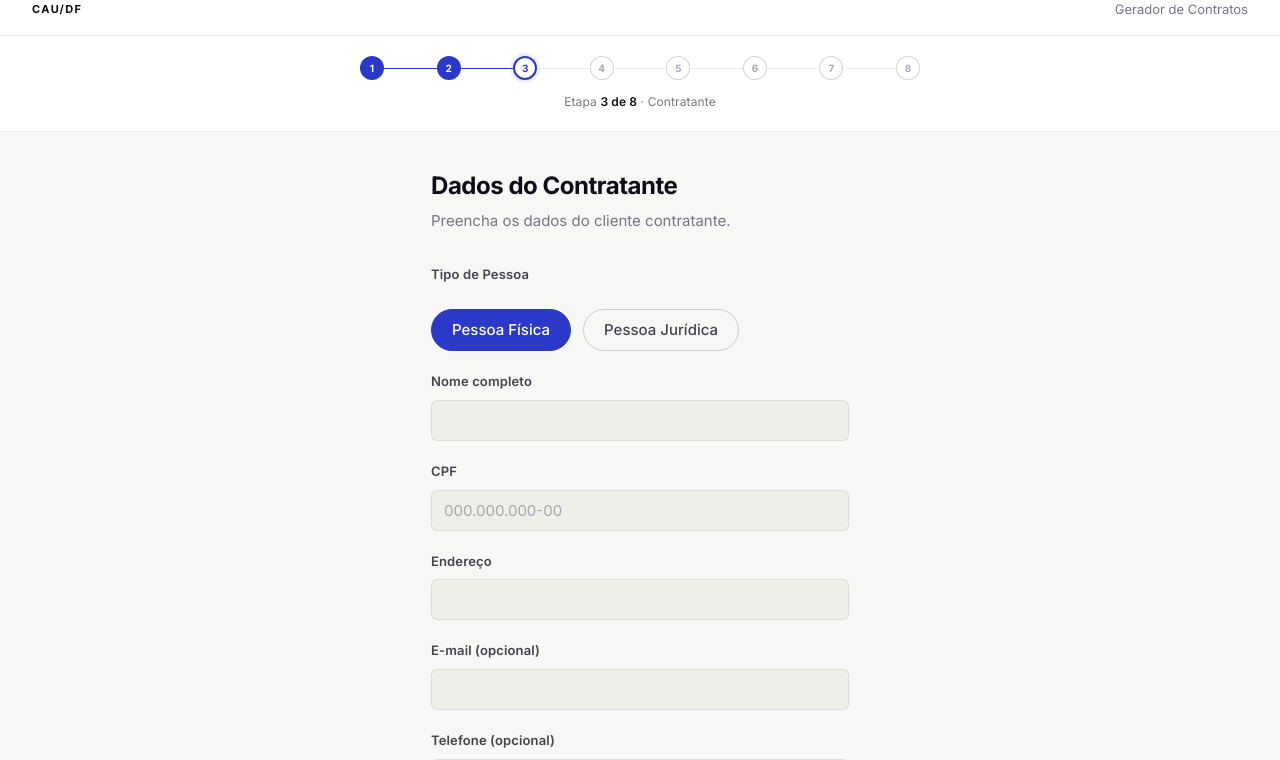
it: ClientFormPage › all valid PJ fields (including conditionals) enables continue button
Click the radio button labelled "Pessoa Jurídica". click: [661, 330]
box: [583,309,739,351]
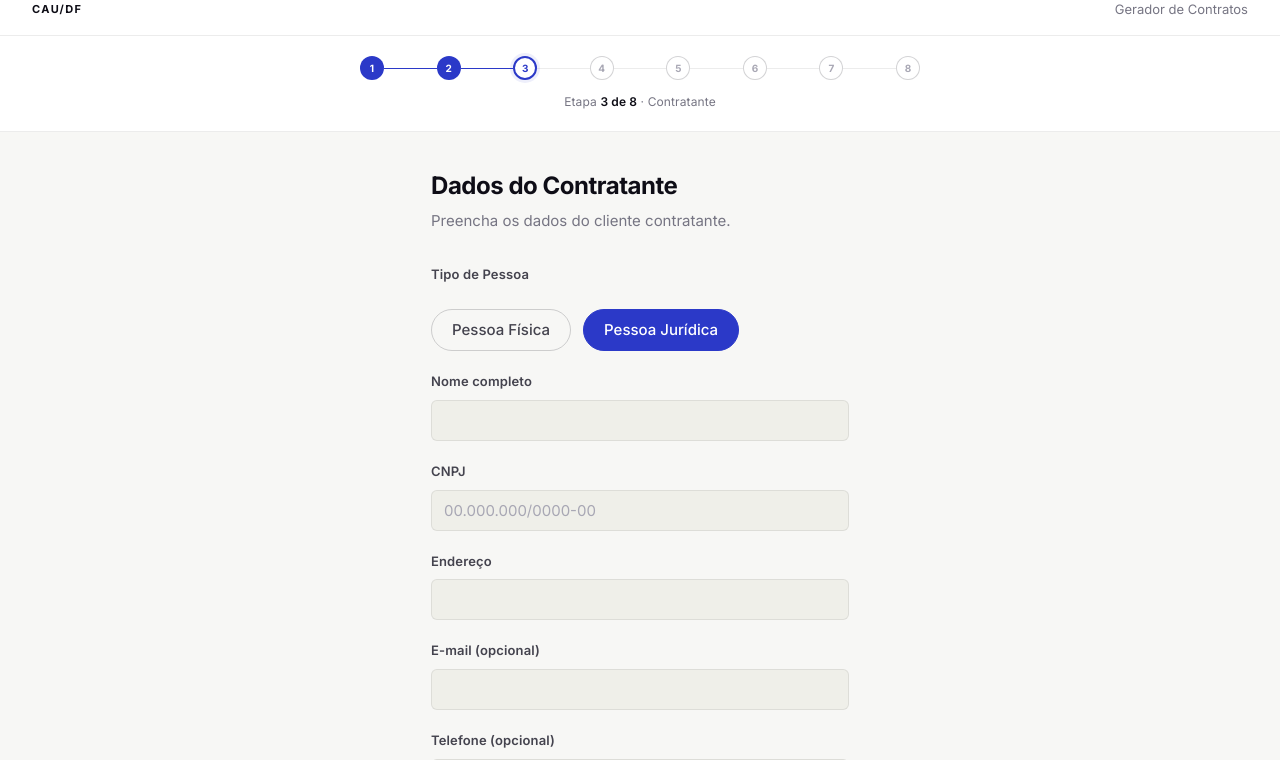
Type "Empresa XYZ" into the field labelled "Nome completo". click: [640, 420]
box: [431,400,849,441]
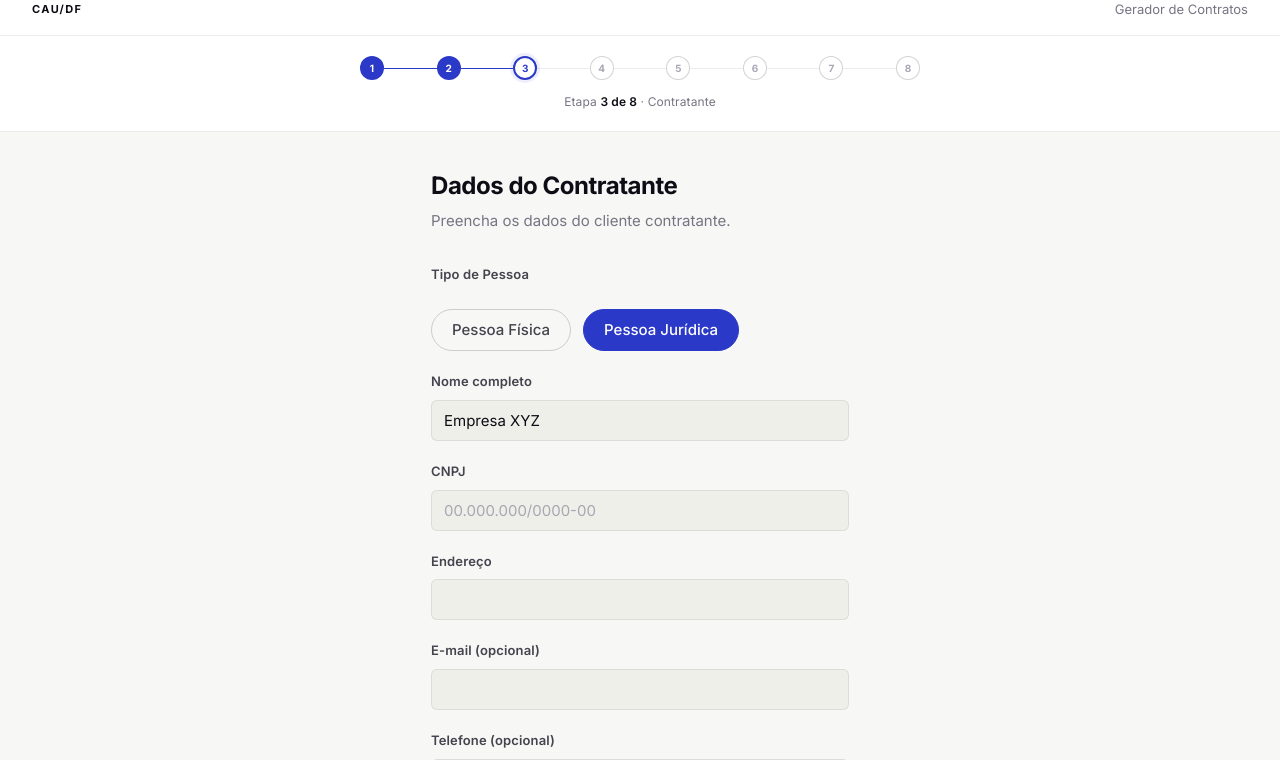
Type "11.222.333/0001-81" into the field labelled "CNPJ". click: [640, 510]
box: [431,490,849,531]
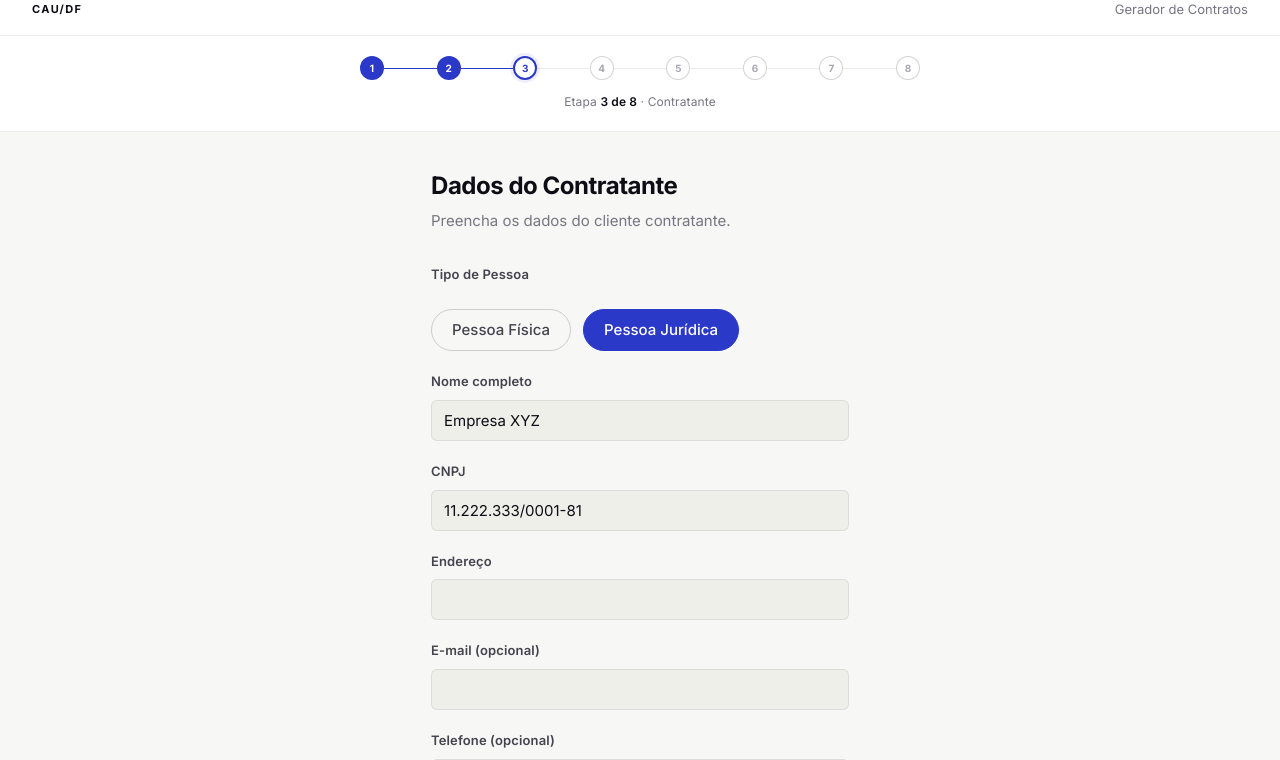
Type "Rua B, 2" into the field labelled "Endereço". click: [640, 600]
box: [431,579,849,620]
(page scrolled)
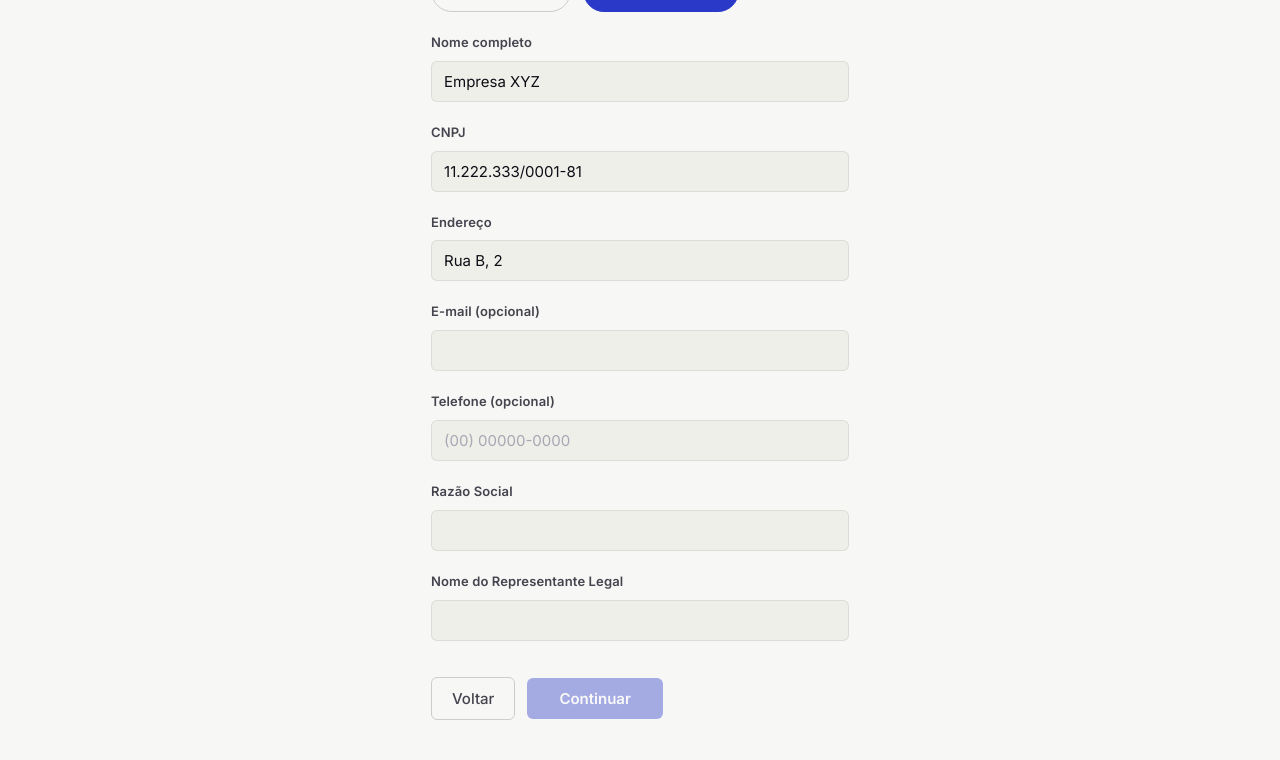
Type "Empresa XYZ Ltda" into the field labelled "Razão Social". click: [640, 530]
box: [431,510,849,551]
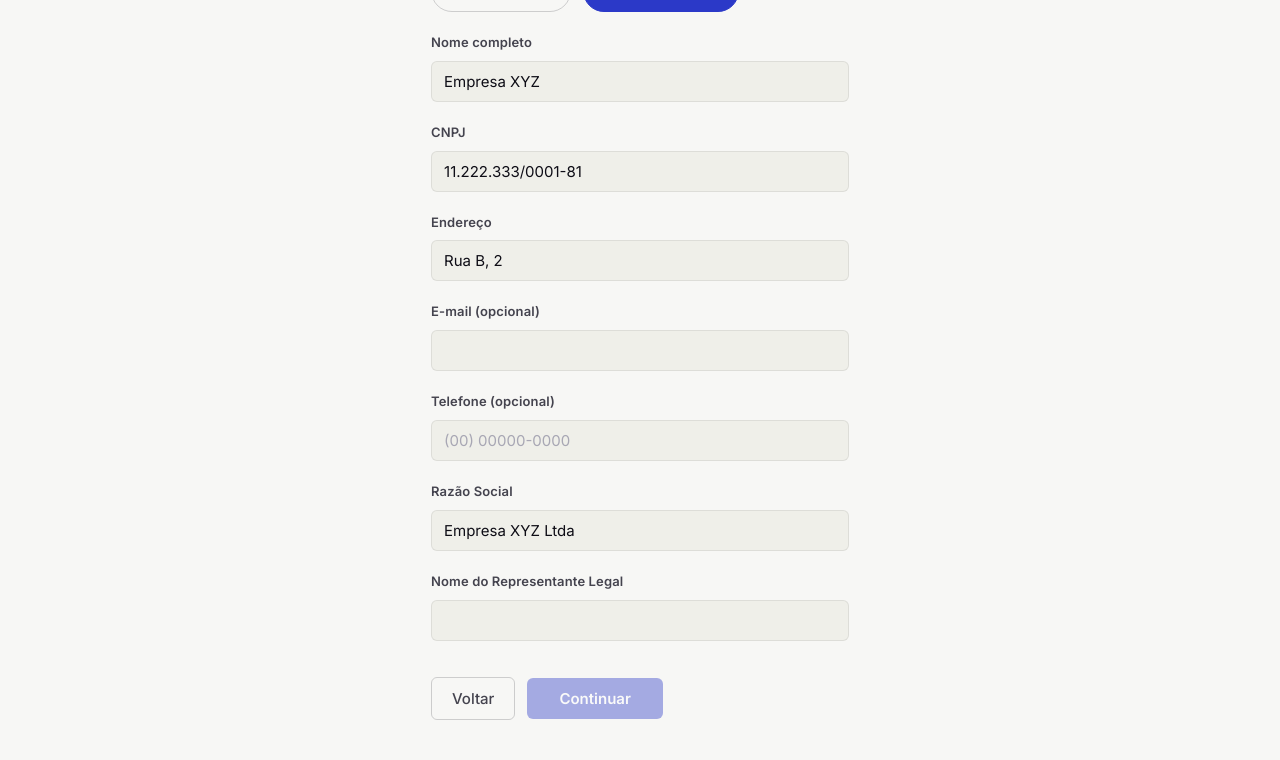
Type "Maria Souza" into the field labelled "Nome do Representante Legal". click: [640, 620]
box: [431,600,849,641]
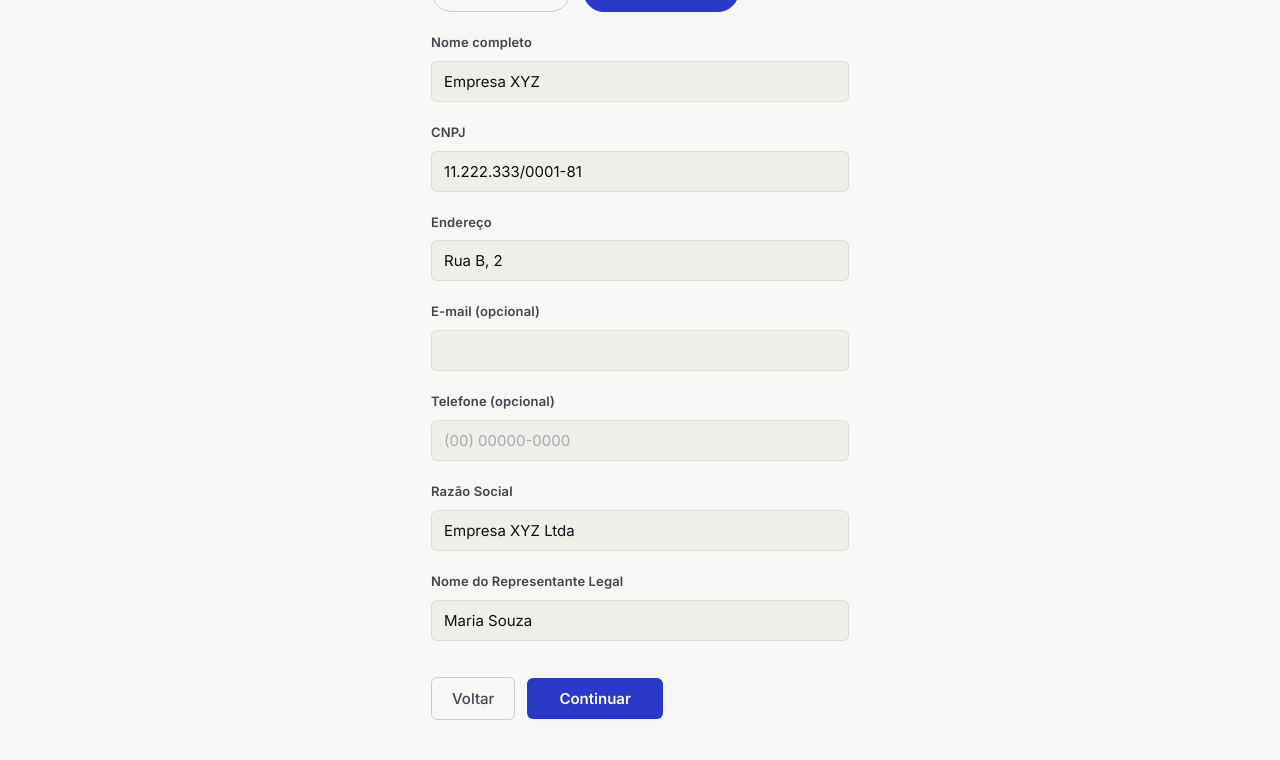
expect the button "Continuar" is enabled: met, box [527,678,663,719]
